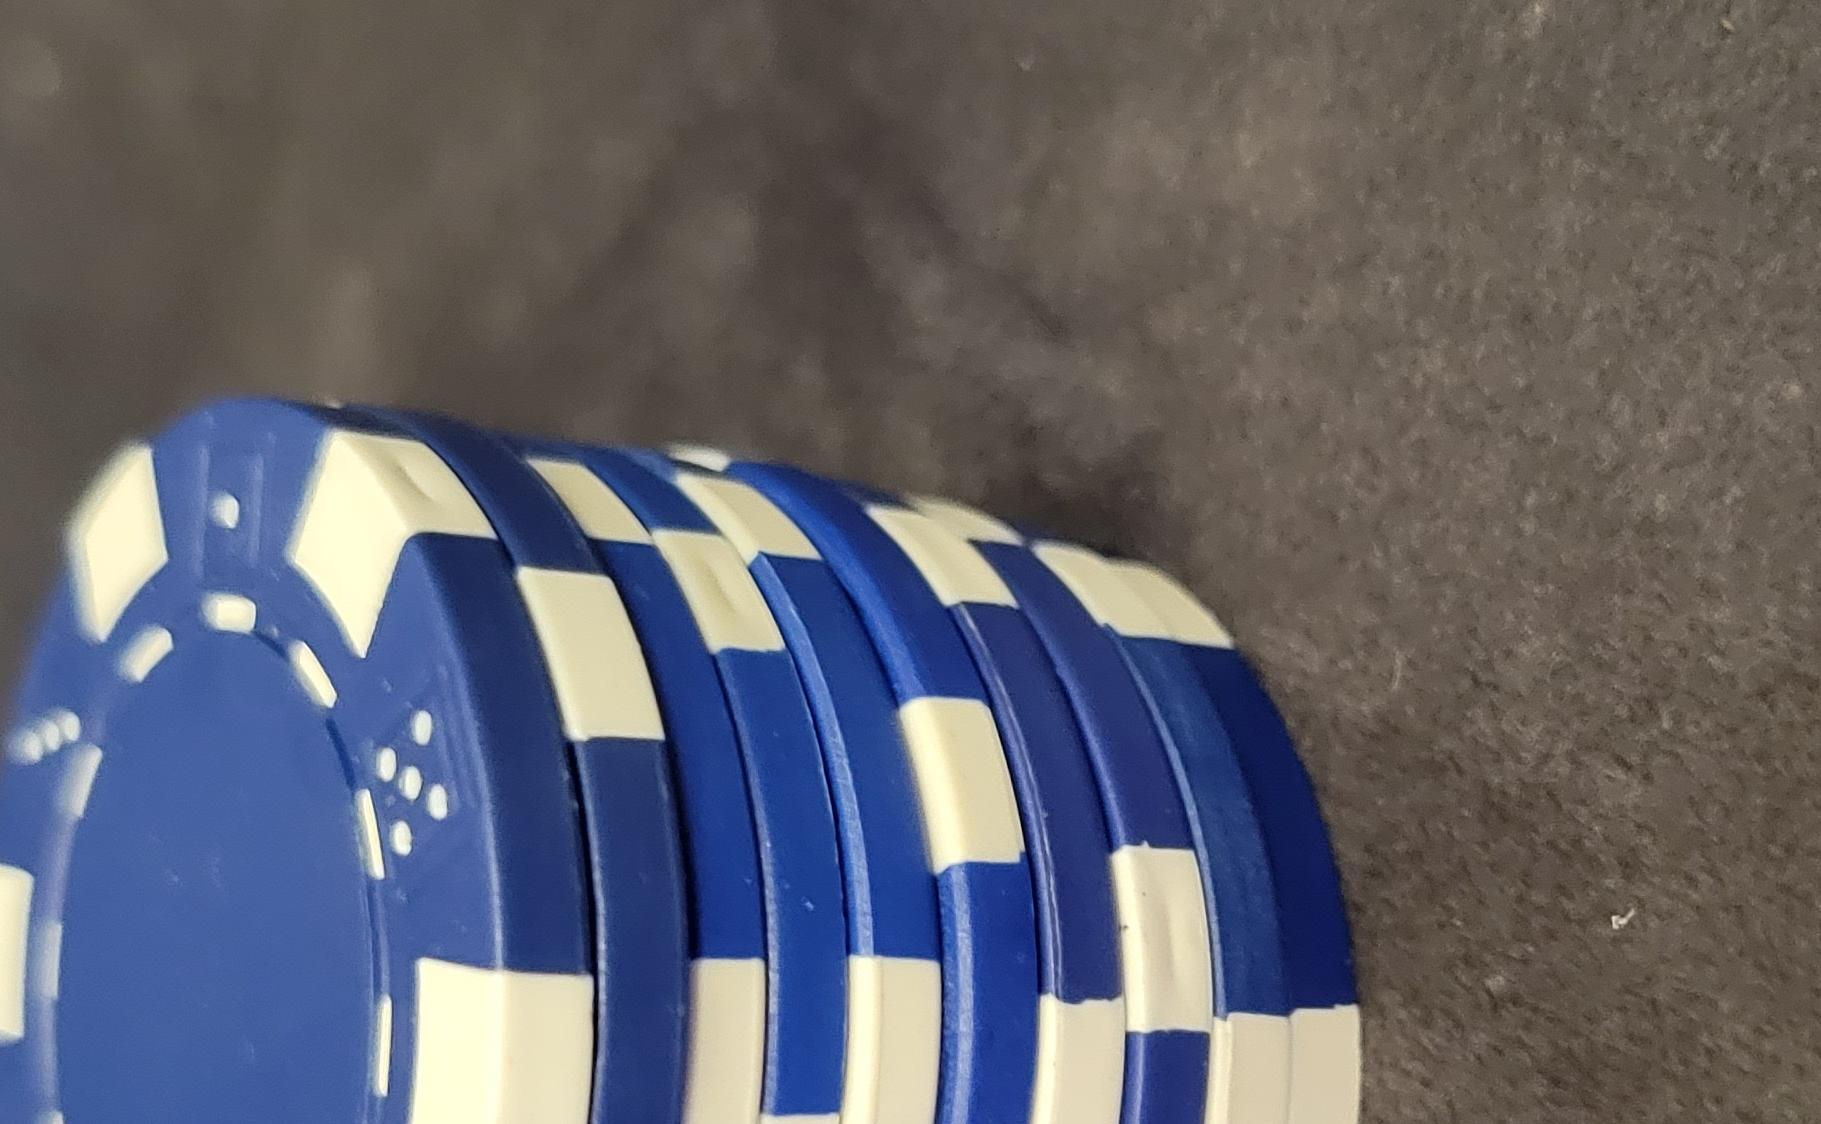Chip: (1, 204, 1124, 1124)
